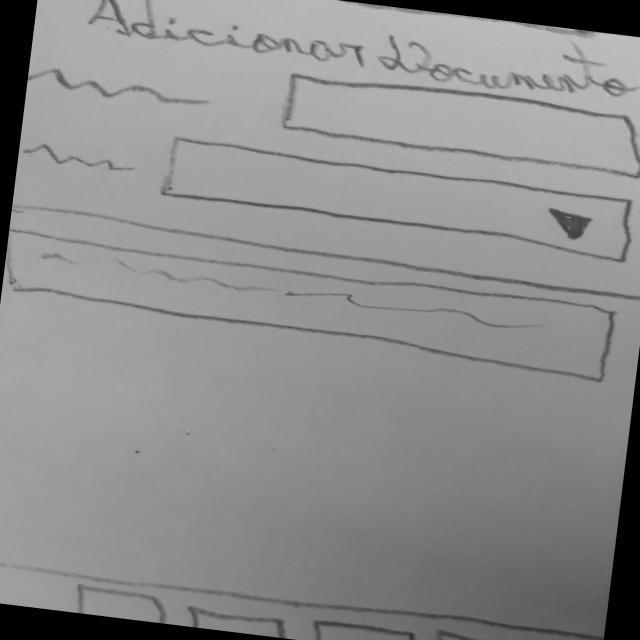container: (0, 203, 640, 640), (9, 0, 640, 304), (0, 554, 604, 640), (276, 67, 640, 183), (68, 580, 180, 624), (181, 602, 301, 640), (310, 614, 428, 640), (432, 626, 554, 640)
input: (0, 223, 621, 386)
label: (84, 0, 640, 108)
select: (157, 130, 640, 266)
text: (26, 63, 216, 114), (25, 139, 145, 178)
